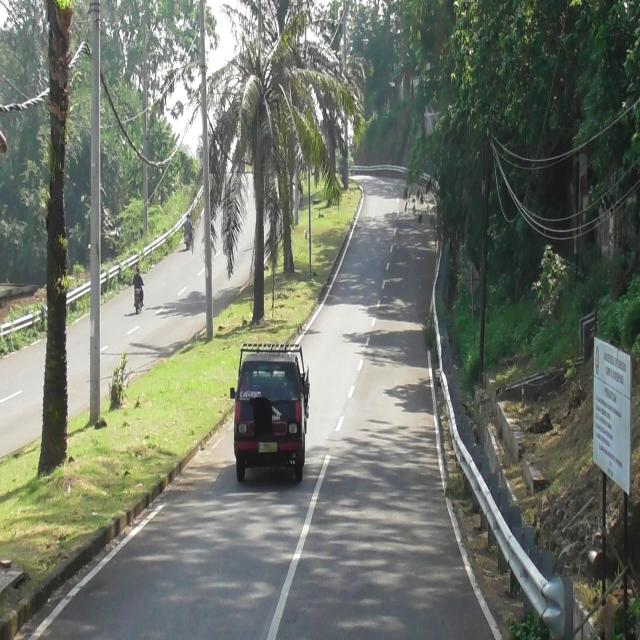motorcycle: (133, 286, 143, 314), (185, 233, 191, 252)
person: (134, 265, 144, 286), (185, 214, 193, 234)
rider_region: (132, 263, 144, 313), (182, 211, 194, 252)
